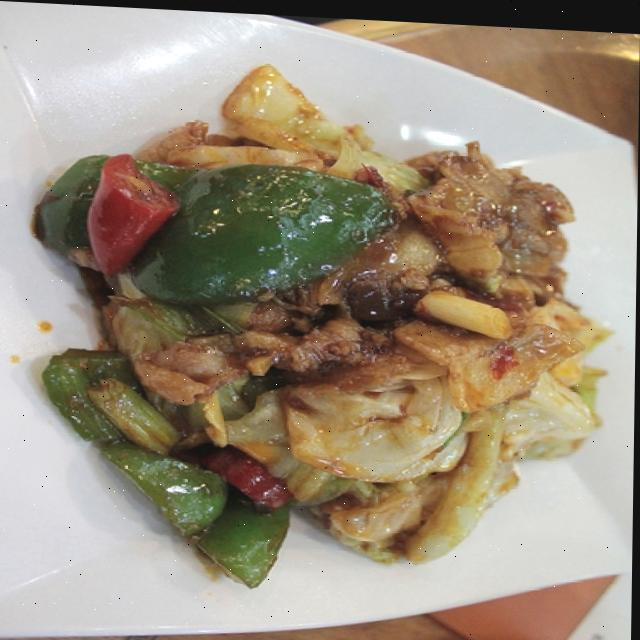猪肉菜式: (7, 53, 611, 615)
